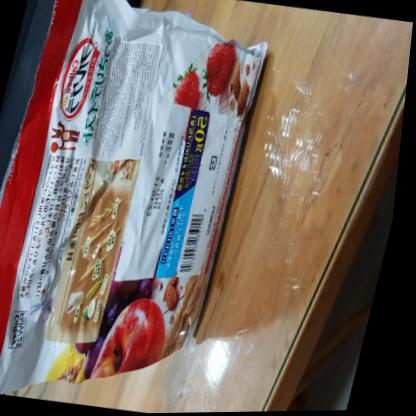i: (0, 0, 292, 415)
